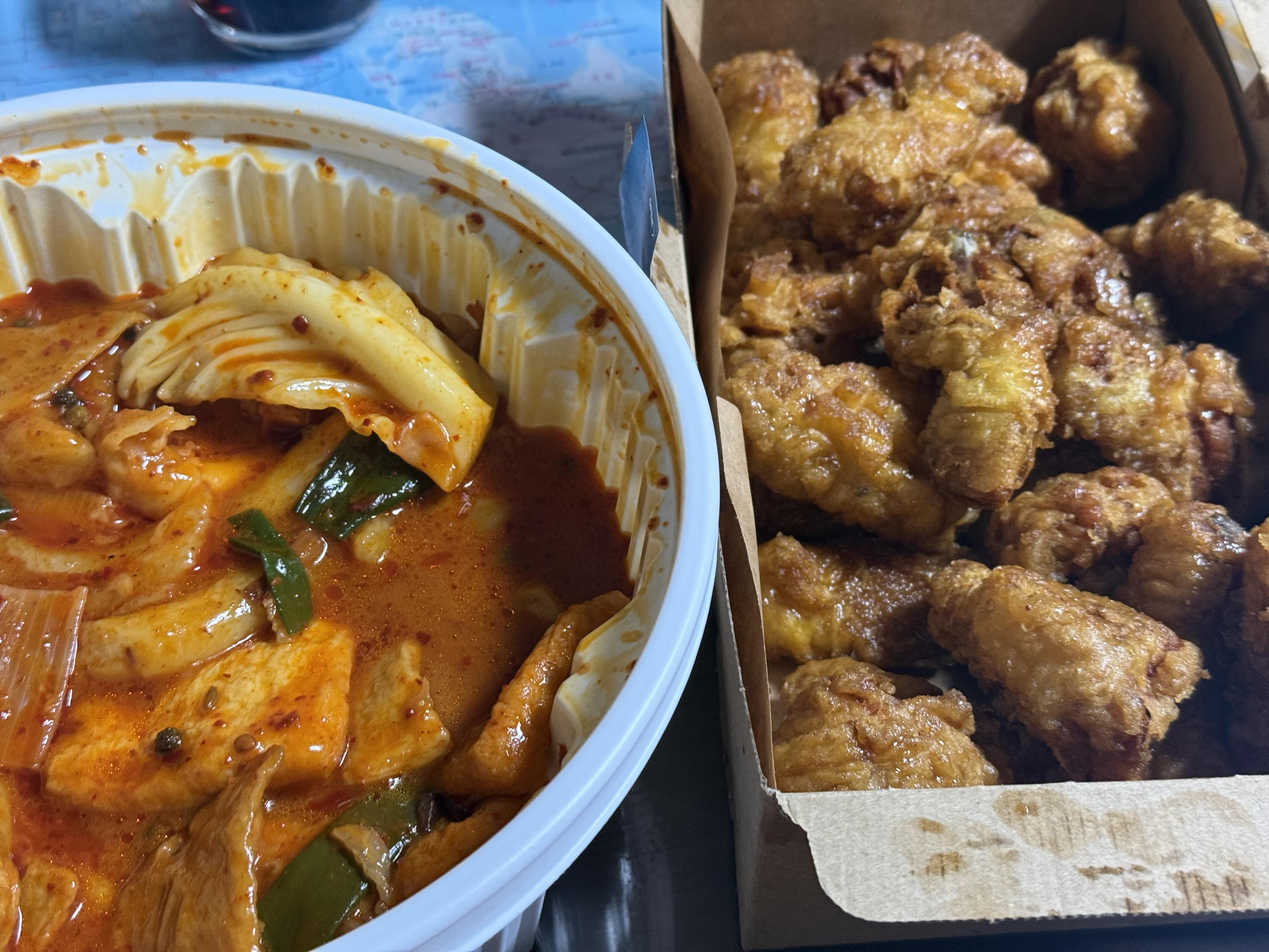Lunch Box: (0, 83, 718, 952), (667, 0, 1269, 948)
